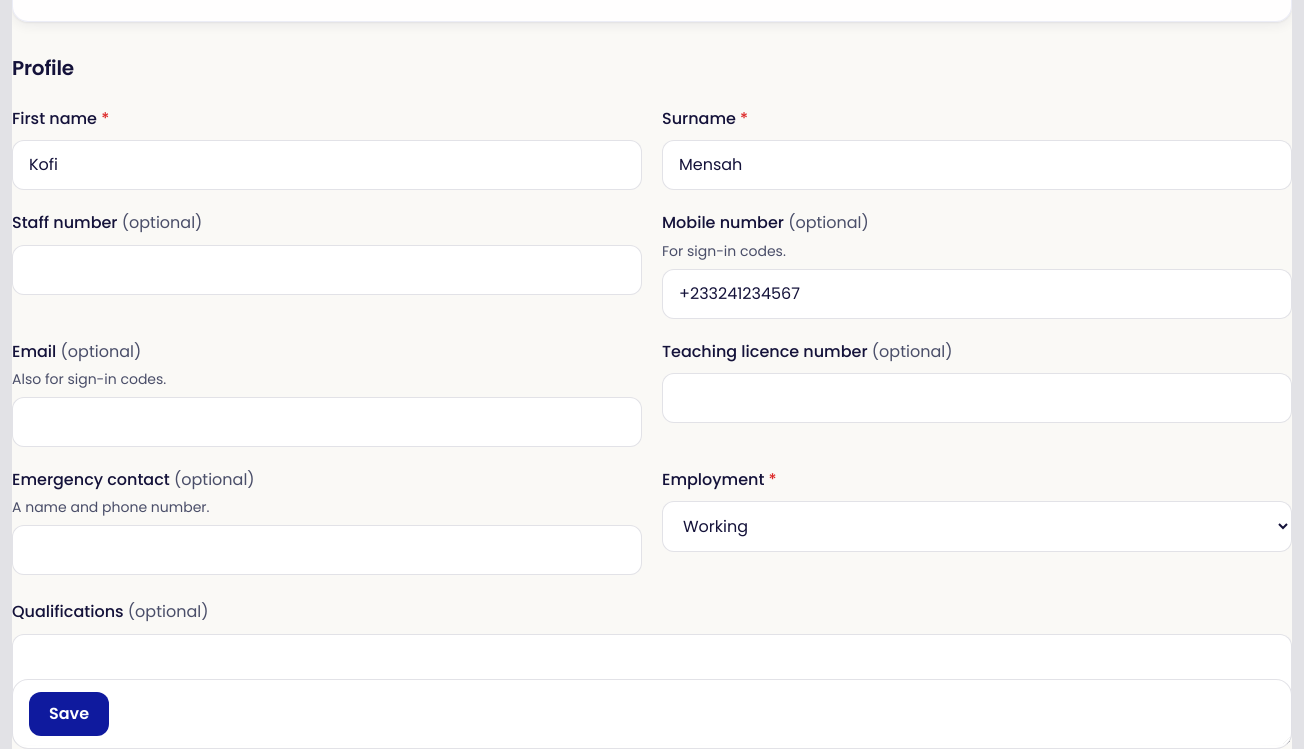
Test: StaffDetailView › saves the profile and roles
(page scrolled)
In the field labelled "Teaching licence number (optional)": (977, 398) [662,373,1292,423], type "NTC-1"
(page scrolled)
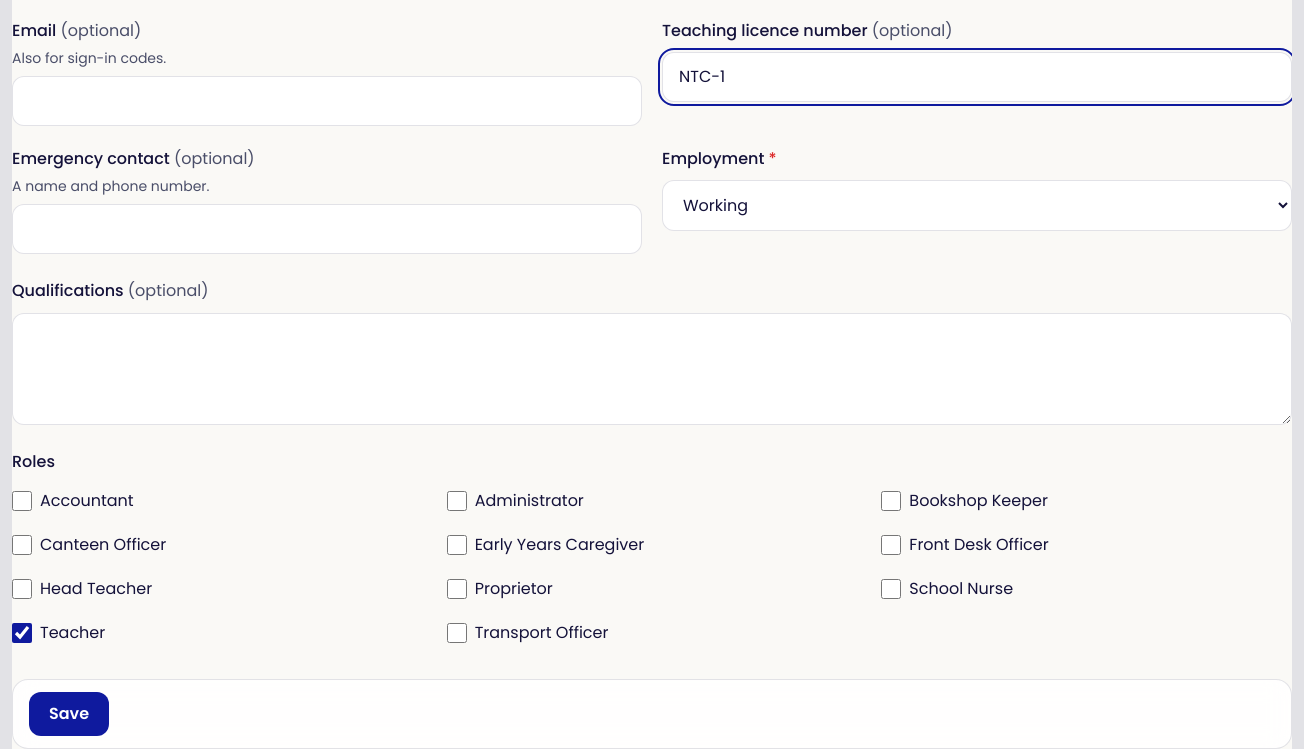
Click the checkbox labelled "Front Desk Officer": (891, 545) [881,535,901,555]
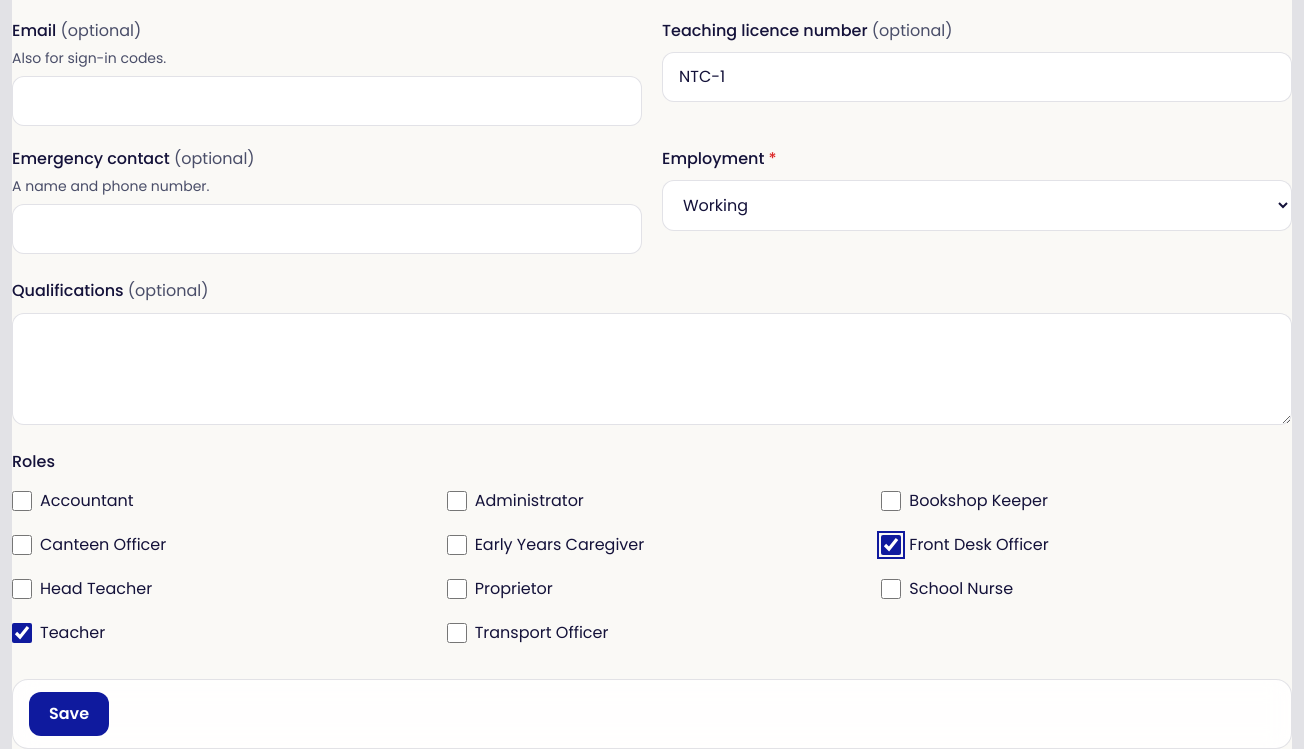
Click the button "Save": (69, 714) [29,692,109,736]
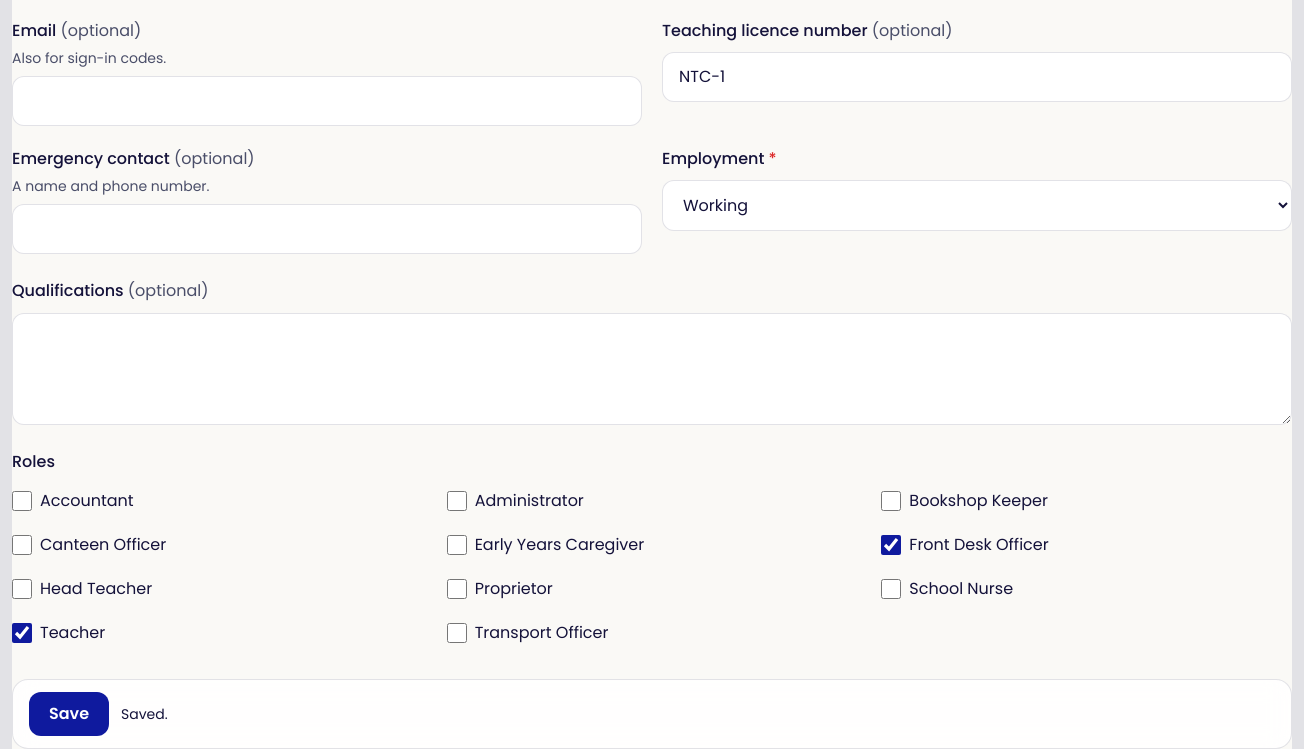
Check: the text "Saved." is shown, box [121,704,168,724]
